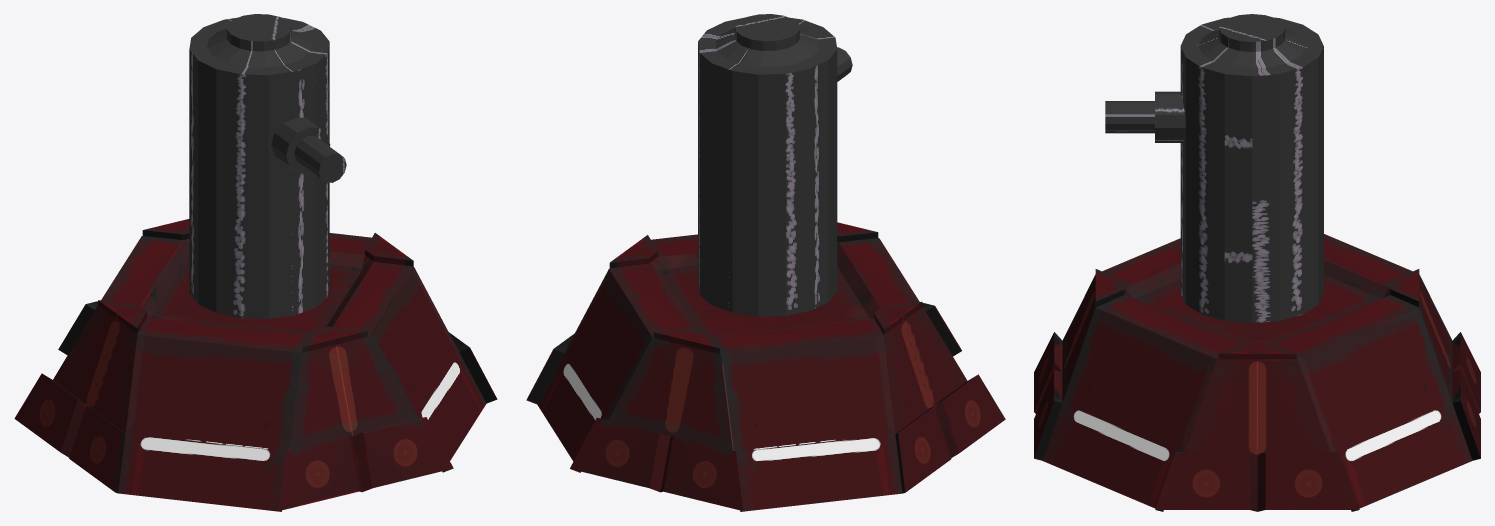
The model's file is turret.fbx.
3 renders of one model, left to right at view 1: azimuth 30°, elevation 25°; view 2: azimuth 150°, elevation 25°; view 3: azimuth 270°, elevation 25°, orthographic. The views are drawn at different scales.
Visible parts, largest first — view 1: podstawkaW, wieza; view 2: podstawkaW, wieza; view 3: podstawkaW, wieza.
Part boxes in pixels (x1,y1,x2,y2): podstawkaW: (14,219,497,511); wieza: (189,14,346,318); podstawkaW: (526,222,1005,511); wieza: (698,14,852,316); podstawkaW: (1034,234,1480,511); wieza: (1105,14,1323,323).
Size of the model in its own units: 208 by 202 by 208.
